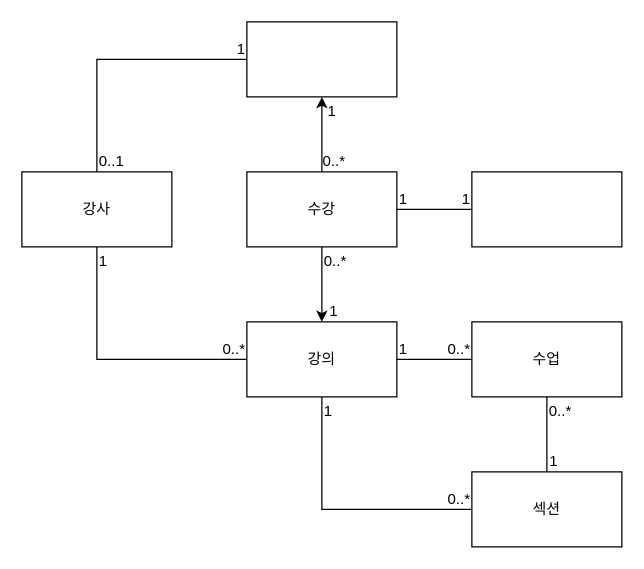
Some shapes in this 644 by 569 pixel diagram are drawn without their labels. The shapes that lost their labels are listed below. From the top down, each one's centre as x and y in pixels, then its label:
the point at 321,59: 회원
the point at 546,209: 진도
